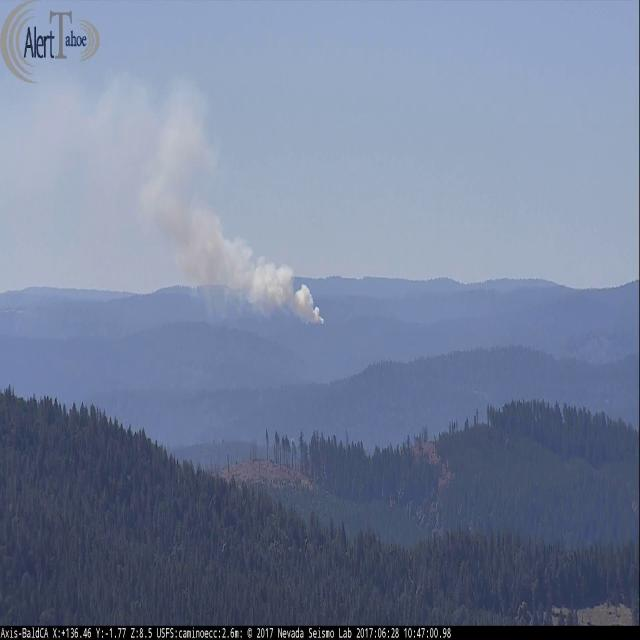smoke: (44, 78, 326, 325)
